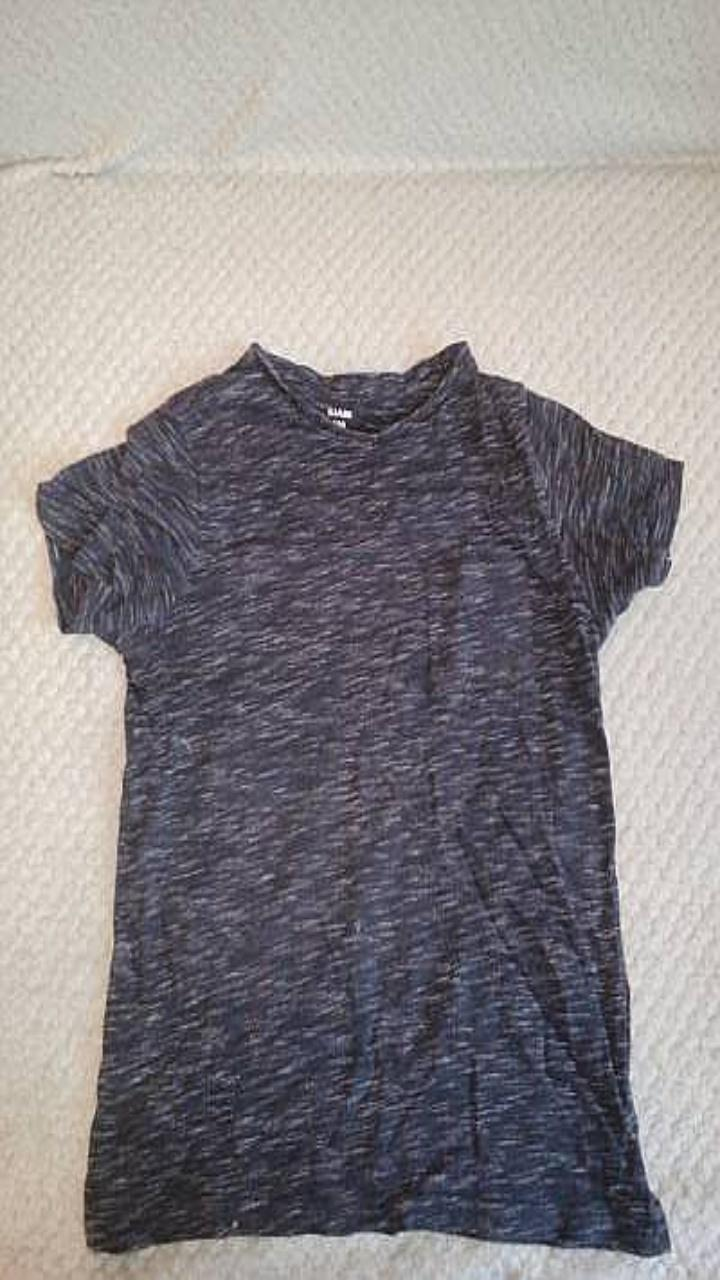T-Shirt: (36, 341, 683, 1254)
